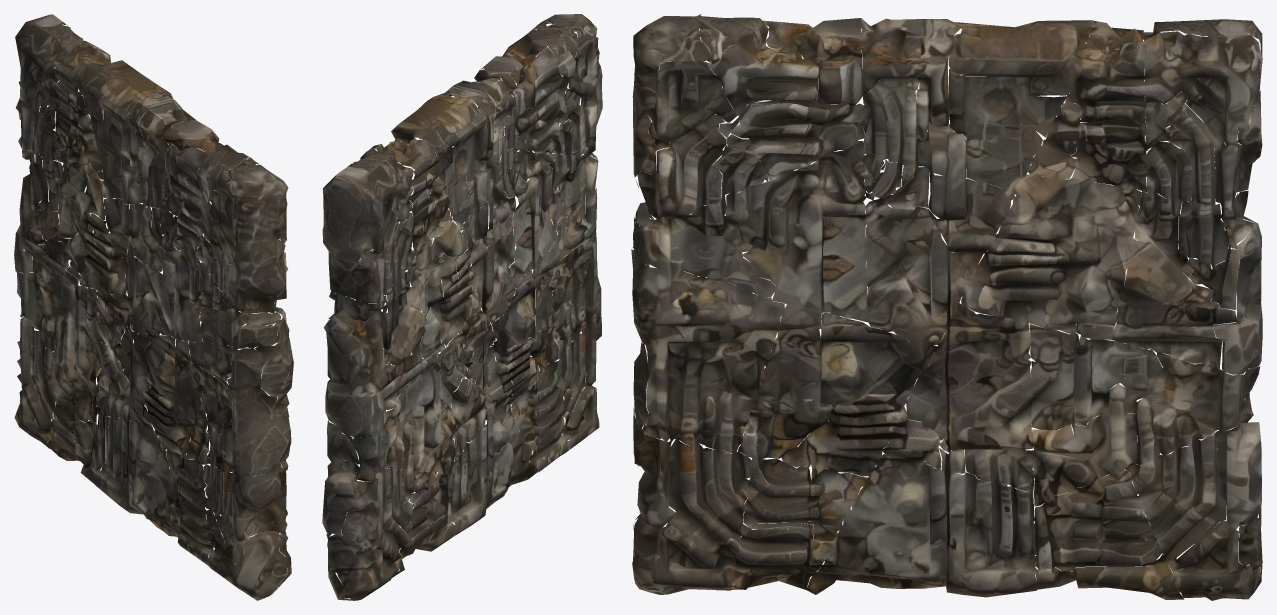
File: arch_floor_stone_LOD1.glb
The picture shows the model from 3 angles, left to right: view 1: azimuth 30°, elevation 25°; view 2: azimuth 150°, elevation 25°; view 3: azimuth 270°, elevation 25°; orthographic projection. The views are drawn at different scales.
Visible parts, largest first — view 1: tripo_node_d47b0ee3-ac23-4a6f-a88d-3b07333e5048; view 2: tripo_node_d47b0ee3-ac23-4a6f-a88d-3b07333e5048; view 3: tripo_node_d47b0ee3-ac23-4a6f-a88d-3b07333e5048.
Part boxes in pixels (box(x1,y1,x2,y2)): tripo_node_d47b0ee3-ac23-4a6f-a88d-3b07333e5048: box(14, 14, 293, 600); tripo_node_d47b0ee3-ac23-4a6f-a88d-3b07333e5048: box(322, 14, 602, 600); tripo_node_d47b0ee3-ac23-4a6f-a88d-3b07333e5048: box(631, 14, 1262, 600).
Bounding box in the file's own units: 0.1615 × 0.9945 × 1.
1 material, 1 textured.
